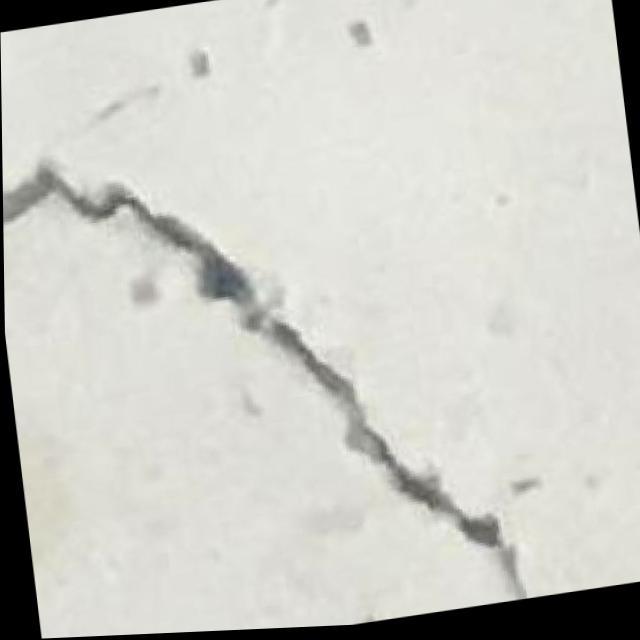Crack: (1, 75, 550, 633)
